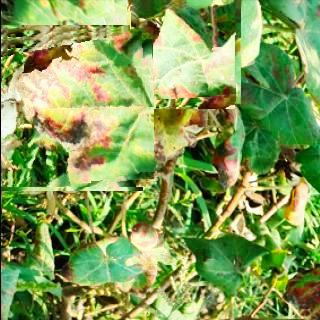blight: (0, 27, 152, 187), (129, 0, 239, 107)
